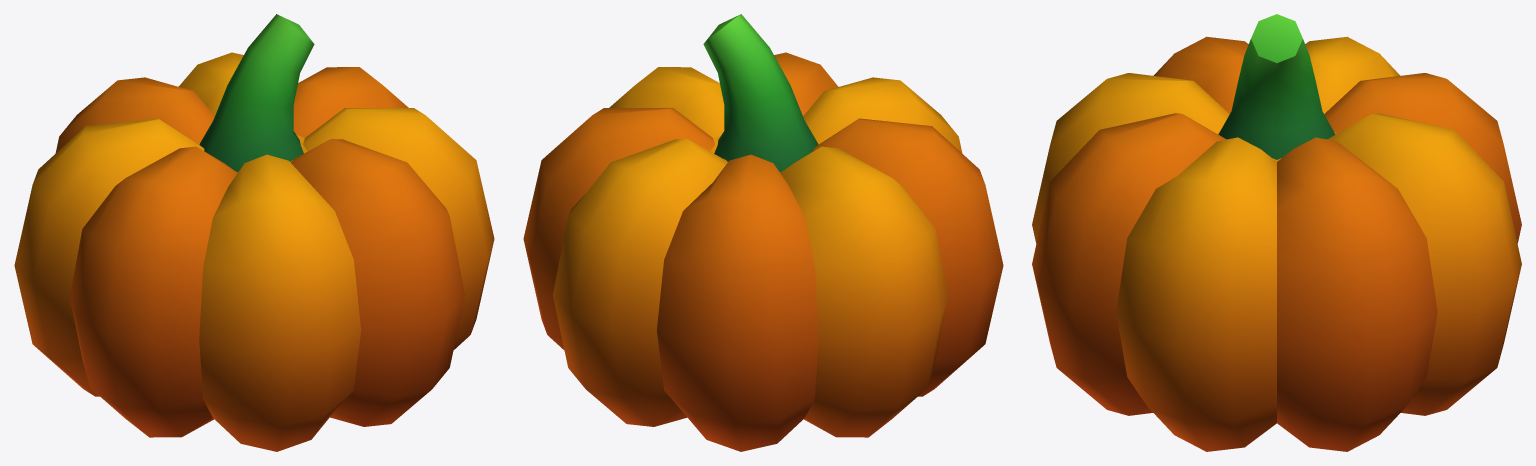
File: Pumpkin.glb
The picture shows the model from 3 angles, left to right: view 1: azimuth 30°, elevation 25°; view 2: azimuth 150°, elevation 25°; view 3: azimuth 270°, elevation 25°; orthographic projection. The views are drawn at different scales.
Parts seen in each view (by area): view 1: Pumpkin; view 2: Pumpkin; view 3: Pumpkin.
Boxes of the visible parts, box(x1,y1,x2,y2) form: Pumpkin: box(14, 14, 494, 451); Pumpkin: box(523, 14, 1003, 451); Pumpkin: box(1032, 14, 1521, 451).
Size of the model in its own units: 0.7029 by 0.6187 by 0.7029.
1 material, 1 textured.
